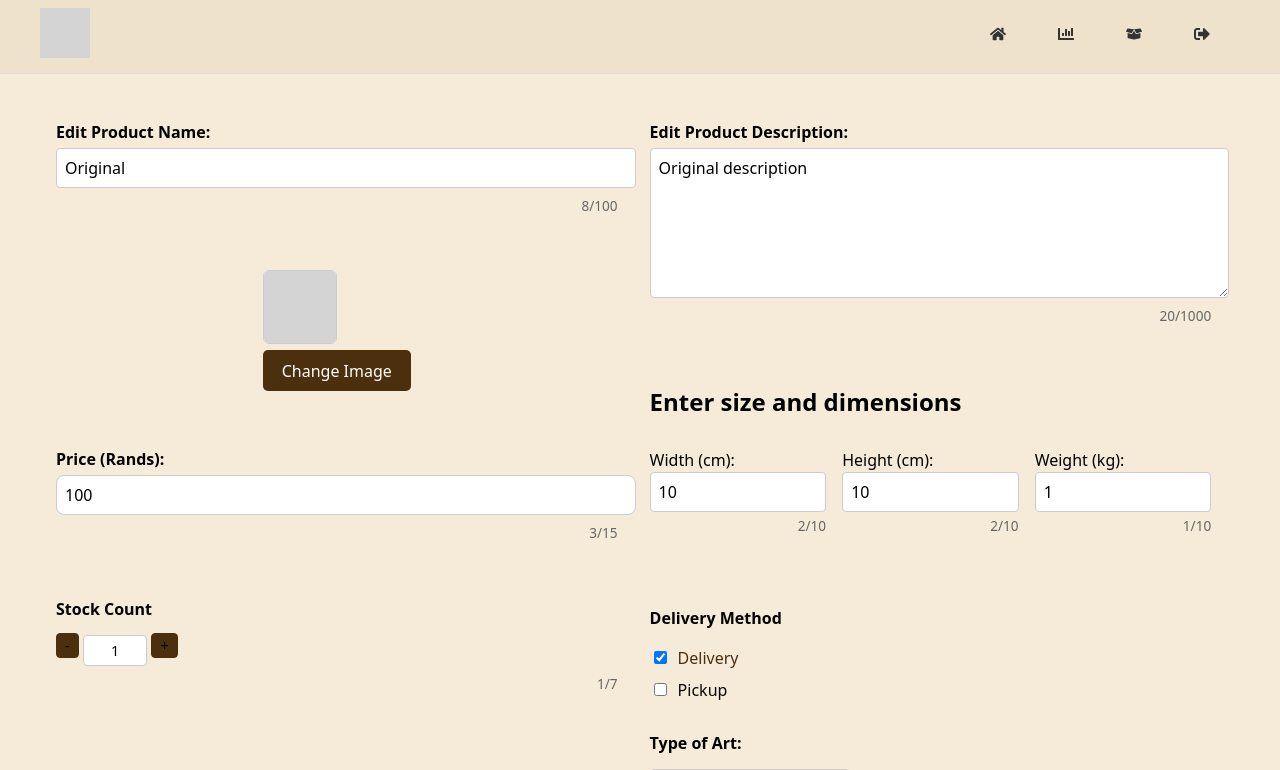
Test: EditProductPage Functional Tests › stock decrement (-) decreases quantity
Expected: the field labelled "Edit Product Name:" is shown, [56, 148, 636, 188]
Click the button named "Decrease stock". click: (67, 646)
box: [56, 633, 79, 658]
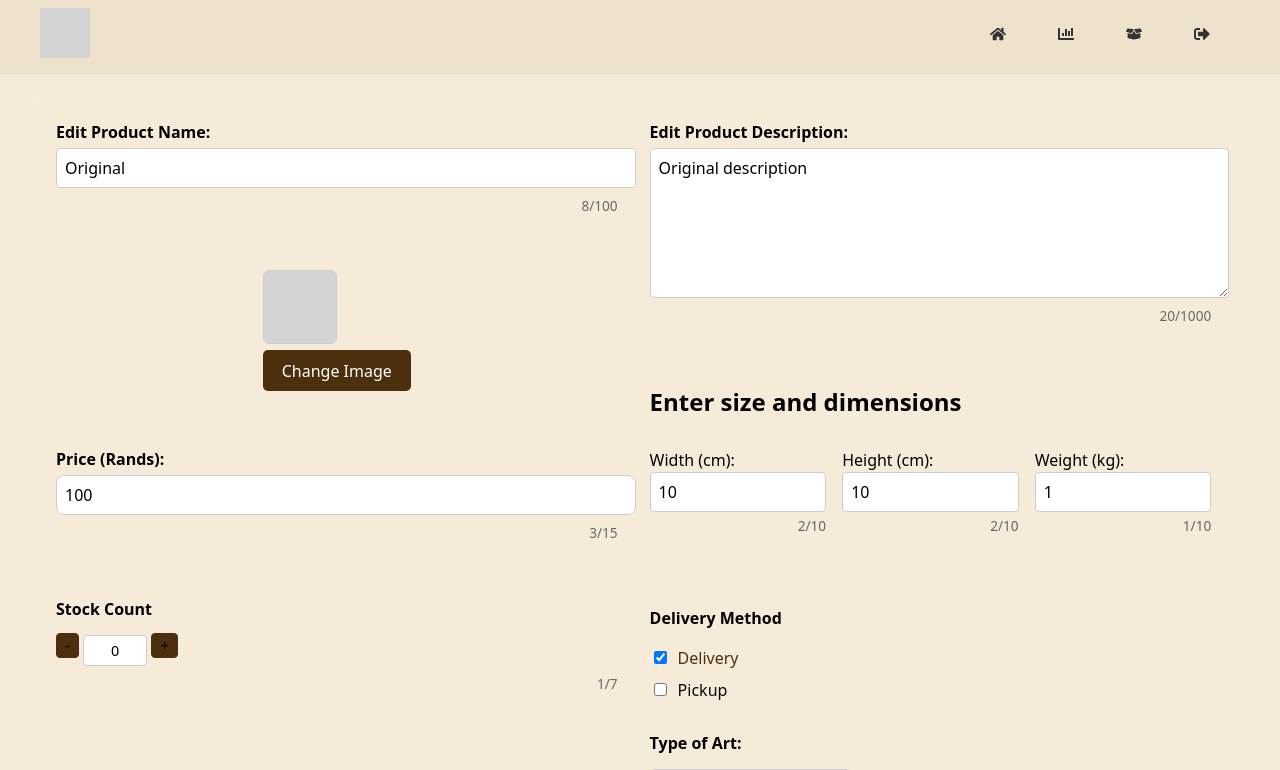
Result: the field labelled "Stock Count" holds "0" at [83, 635, 147, 666]
